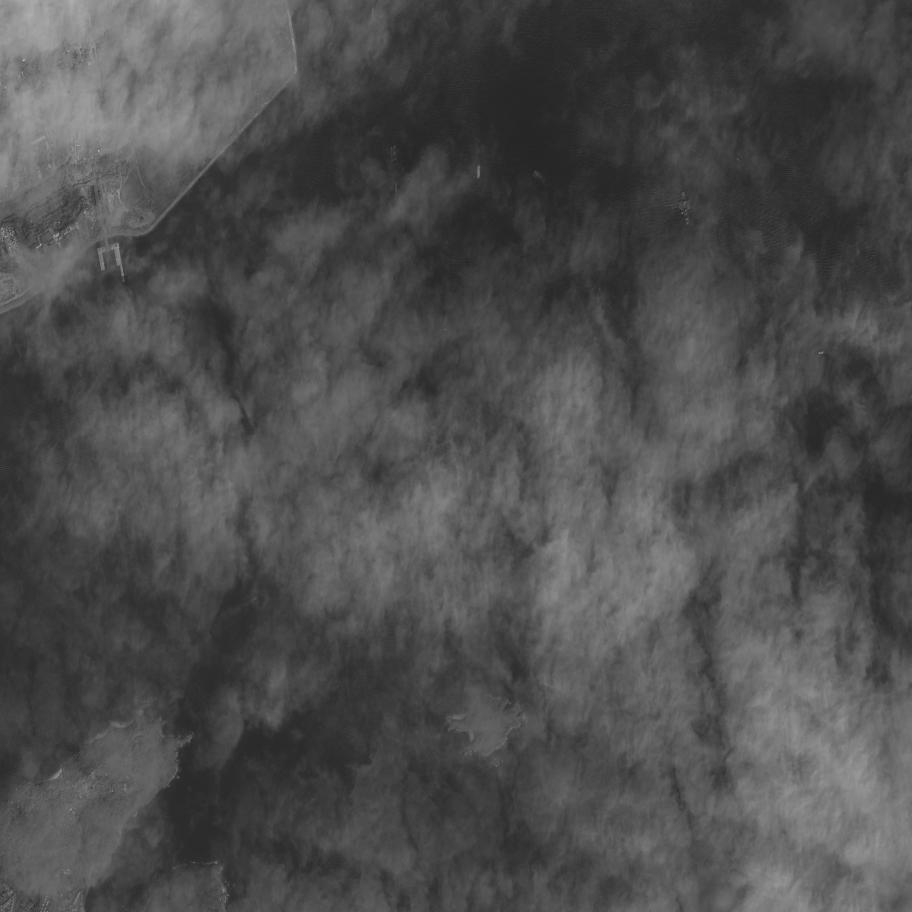ship: (680, 192, 690, 225), (595, 287, 601, 311), (532, 170, 544, 181), (685, 199, 692, 213), (677, 201, 684, 215), (477, 164, 481, 179), (390, 147, 394, 162), (394, 181, 398, 196), (393, 146, 397, 160), (818, 352, 823, 354)
